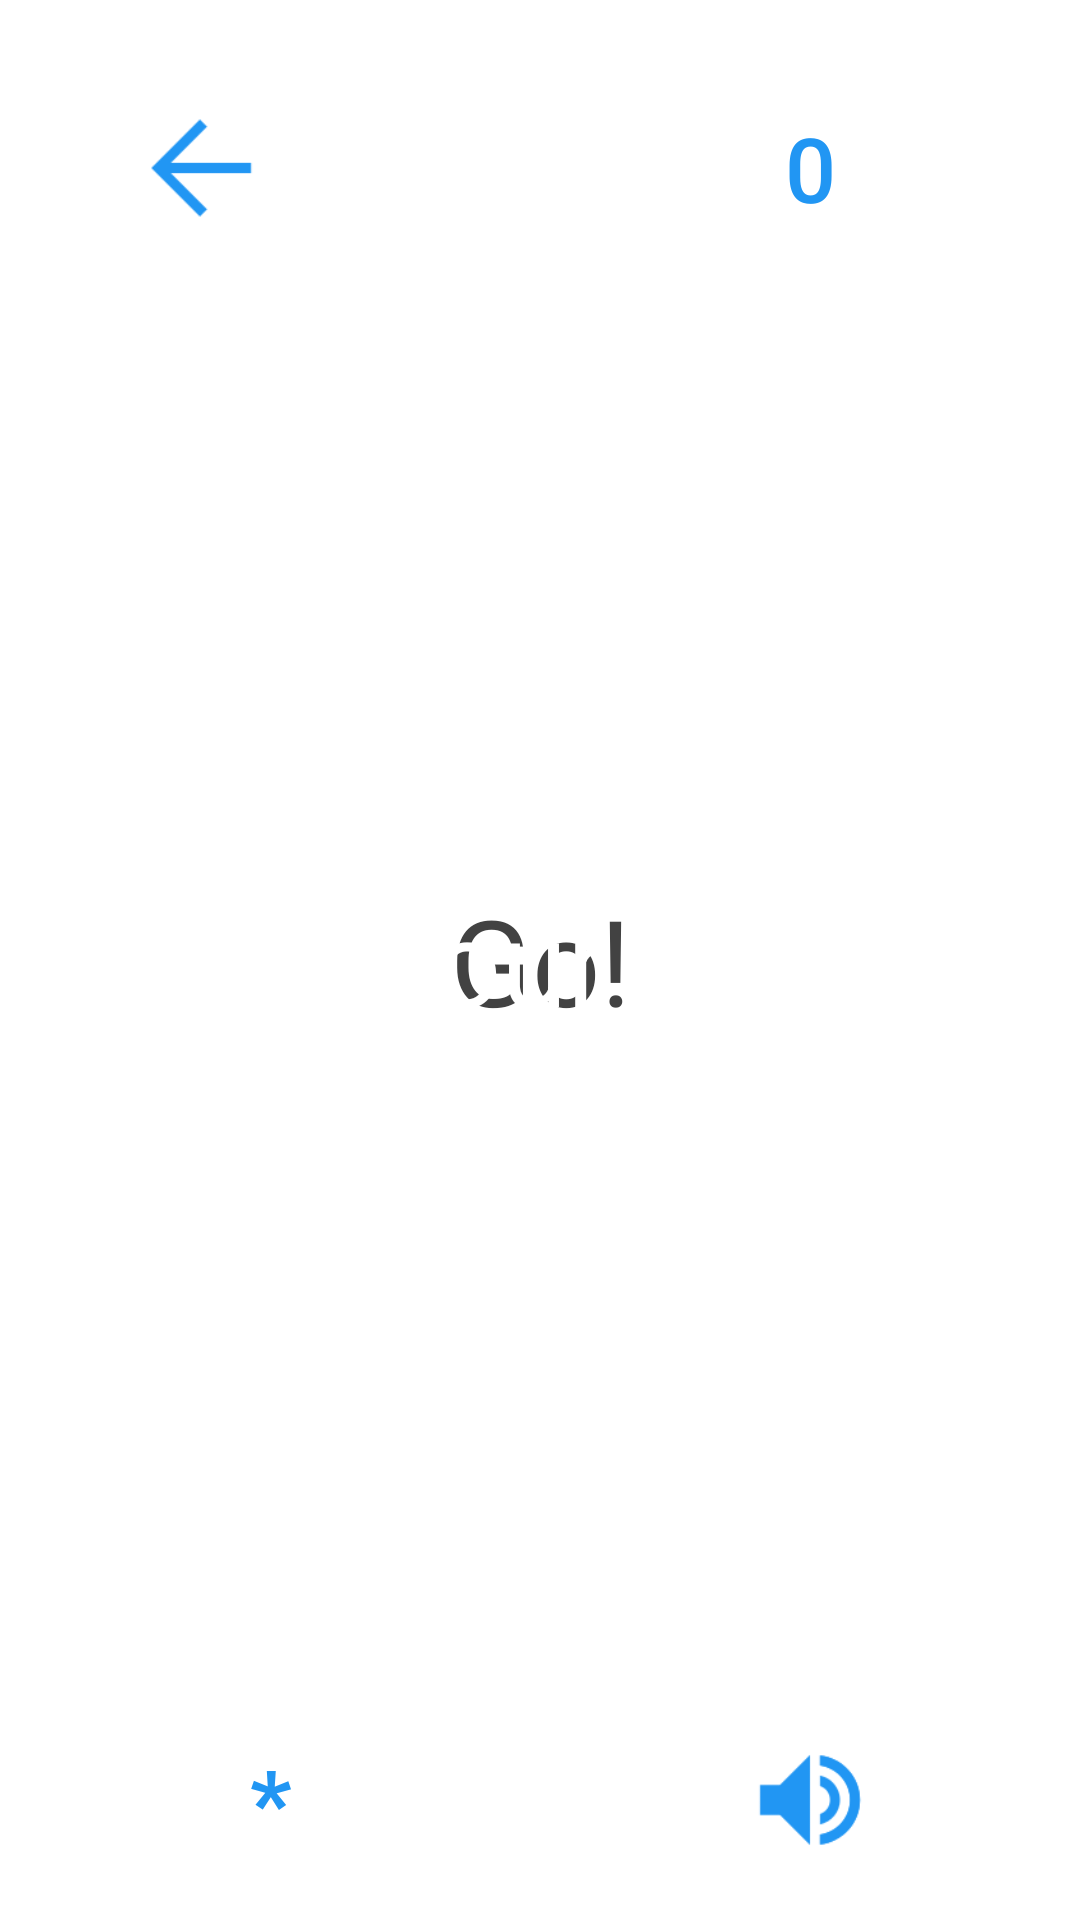

Screen size 1080×1920. Icon name, then its box in pixels as rect(x1, y1, x2, y2):
arrow left: rect(151, 119, 252, 217)
speaker: rect(759, 1755, 861, 1845)
